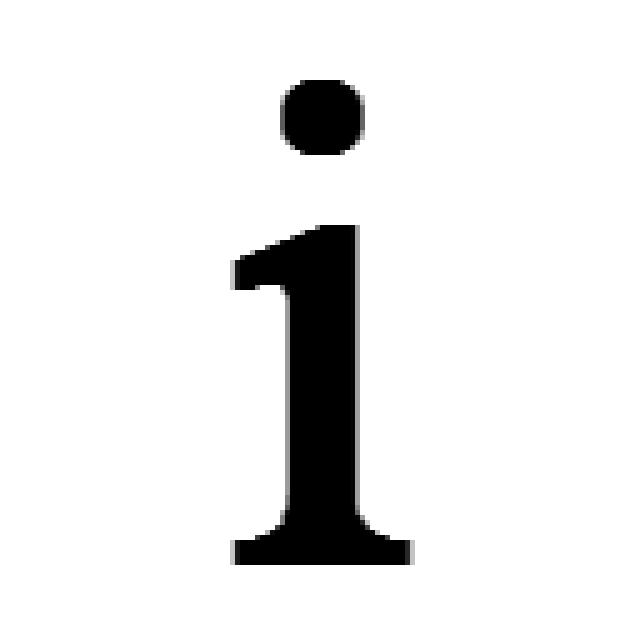I: (213, 68, 419, 566)
